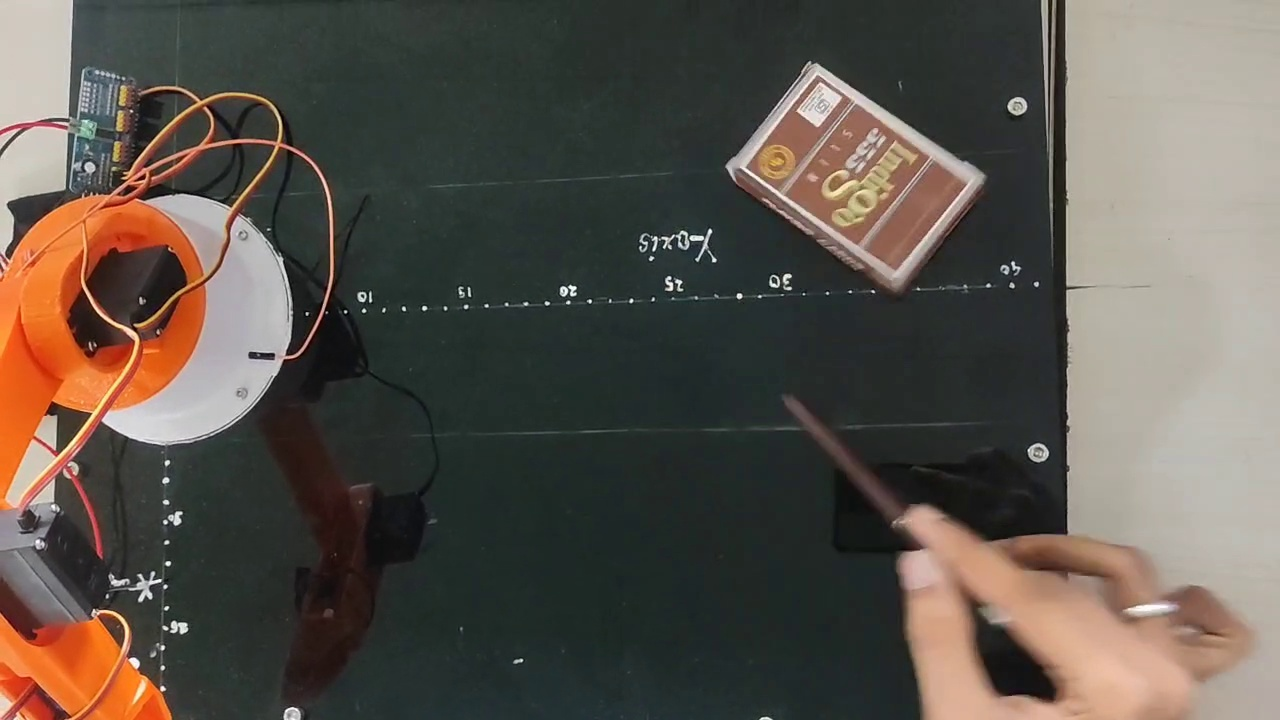BEX: (736, 68, 972, 273)
